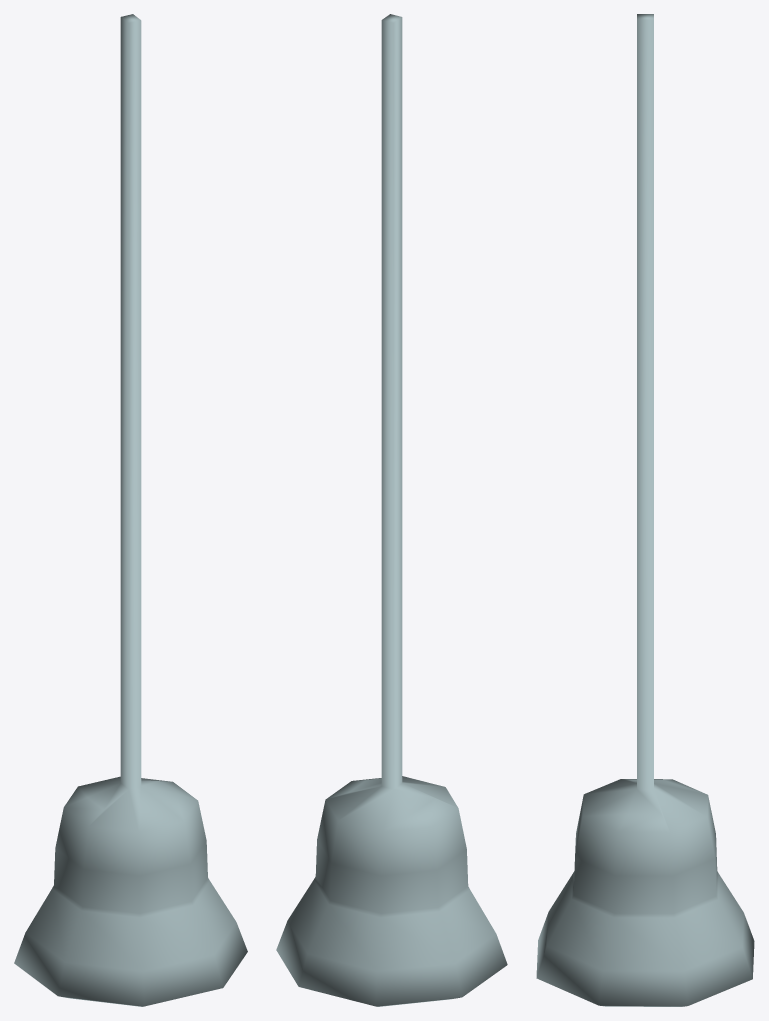
The model's file is linnaeus bell.fbx.
3 views of the same model, side by side, from view 1: azimuth 30°, elevation 25°; view 2: azimuth 150°, elevation 25°; view 3: azimuth 270°, elevation 25° (orthographic).
Parts seen in each view (by area): view 1: linnaeus bell; view 2: linnaeus bell; view 3: linnaeus bell.
Part boxes in pixels (box(x1,y1,x2,y2)): linnaeus bell: box(14, 14, 247, 1006); linnaeus bell: box(276, 14, 507, 1006); linnaeus bell: box(536, 14, 754, 1006).
Size of the model in its own units: 49.76 by 240 by 49.54.
